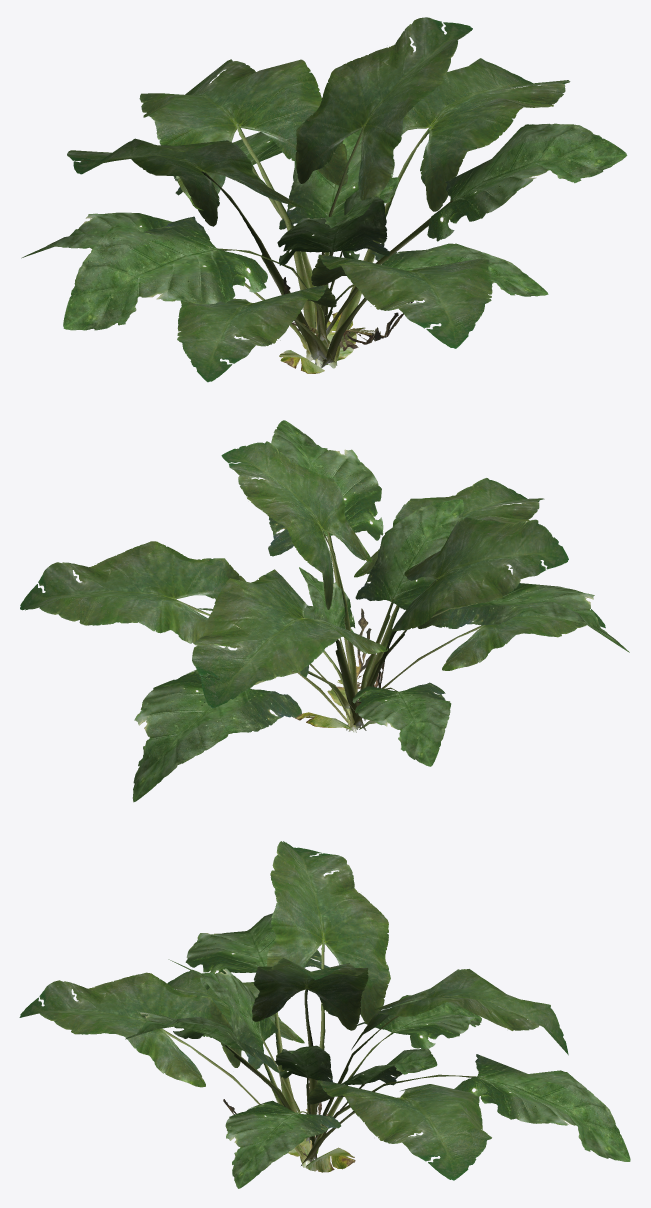
Rendered from big_leave_plant_med_a.fbx.
3 views of the same model, one above another, from view 1: azimuth 30°, elevation 25°; view 2: azimuth 150°, elevation 25°; view 3: azimuth 270°, elevation 25° (orthographic). The views are drawn at different scales.
Parts seen in each view (by area): view 1: leaf_big_leave_plant_med_a_mesh; view 2: leaf_big_leave_plant_med_a_mesh; view 3: leaf_big_leave_plant_med_a_mesh.
Boxes of the visible parts, left/top/right/bottom form: leaf_big_leave_plant_med_a_mesh: left=21, top=17, right=627, bottom=382; leaf_big_leave_plant_med_a_mesh: left=20, top=420, right=629, bottom=802; leaf_big_leave_plant_med_a_mesh: left=19, top=841, right=630, bottom=1188.
Size of the model in its own units: 2.16 by 1.03 by 2.25.
Materials: 1 (1 with a texture image).
